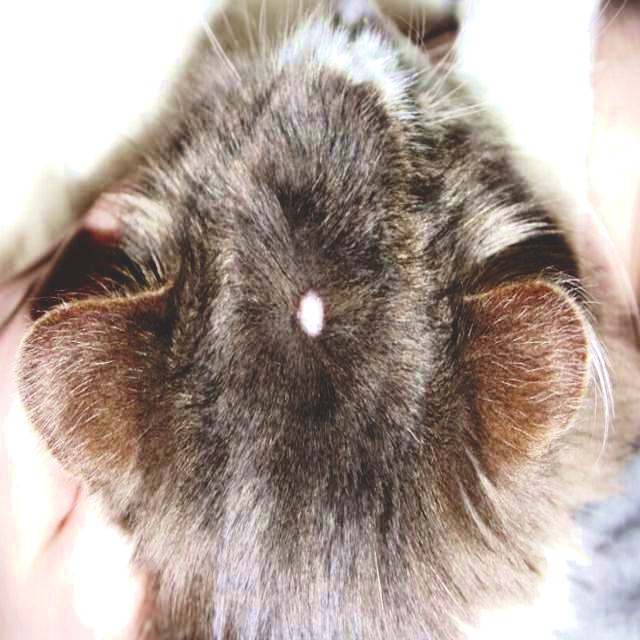lump_and_bump: (297, 290, 322, 342)
